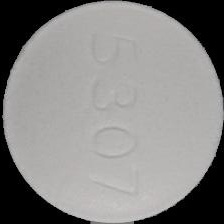49999-090: (0, 0, 224, 224)
